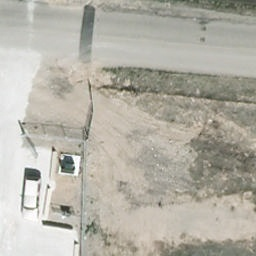car: (20, 177, 43, 221)
